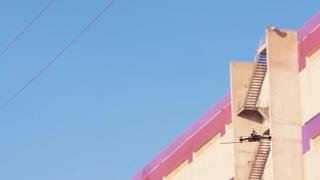UAV: (238, 130, 272, 144)
